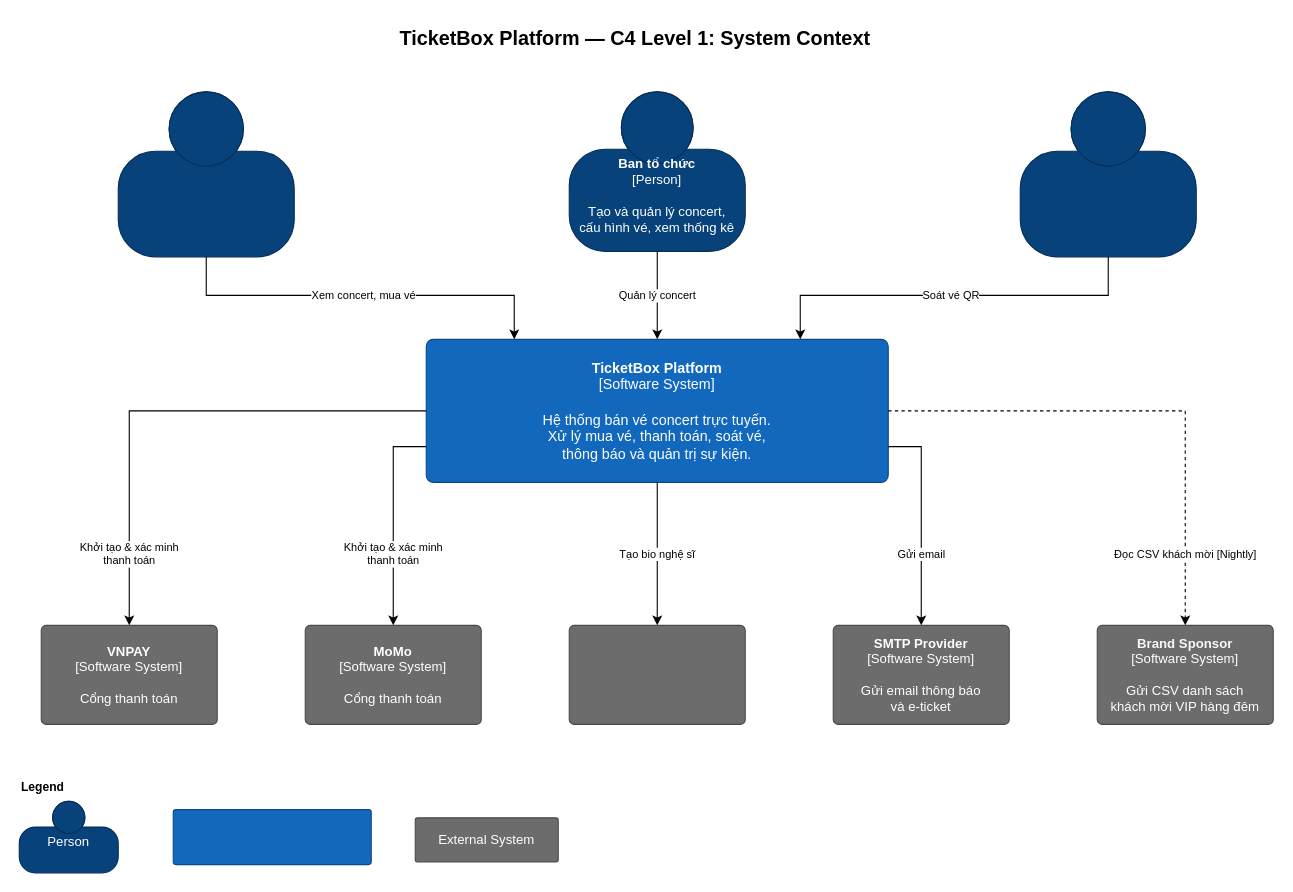
Some shapes in this 1293 by 892 pixel diagram are drawn without their labels. Here are the shapes that lost their labels. From the top down, the centre of each, then its label:
(x=205, y=174): Khán giả [Person] Xem concert, mua vé, nhận e-ticket QR
(x=1107, y=174): Nhân sự soát vé [Person] Quét mã QR tại cổng sự kiện
(x=656, y=674): Claude AI API [ Software System] Tạo mô tả nghệ sĩ từ PDF press kit
(x=271, y=837): System
